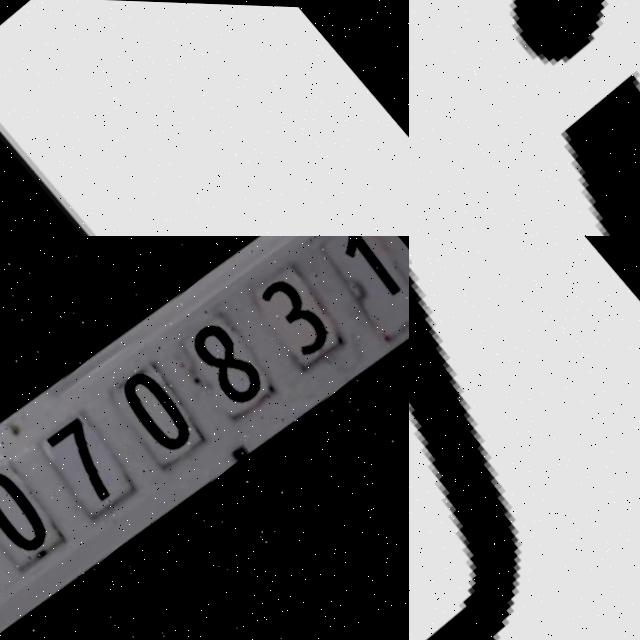0: (77, 333, 225, 486), (0, 433, 79, 589)
1: (297, 236, 409, 331)
3: (223, 242, 360, 384)
7: (11, 386, 154, 534)
8: (151, 286, 294, 435)
L: (0, 96, 373, 236)
P: (409, 256, 526, 640)
